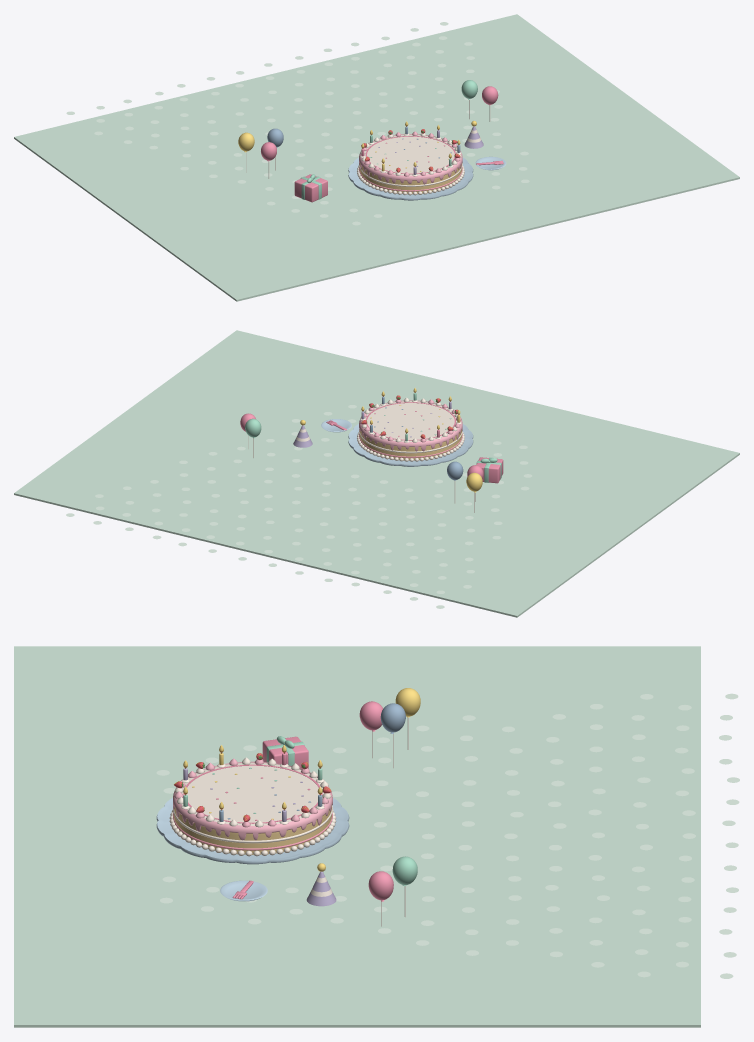
Rendered from cake_kit.glb.
3 renders of one model, top to bottom at view 1: azimuth 30°, elevation 25°; view 2: azimuth 150°, elevation 25°; view 3: azimuth 270°, elevation 25°, orthographic. The views are drawn at different scales.
Visible parts, largest first — view 1: TABLE_Cloth, CAKE_Body, TABLE_Stand, CAKE_Collar, TABLE_Present; view 2: TABLE_Cloth, CAKE_Body, TABLE_Stand, CAKE_Collar, TABLE_Present; view 3: TABLE_Cloth, CAKE_Body, TABLE_Stand, CAKE_Collar, TABLE_Present, CAKE_Filling, CAKE_Border, TABLE_DessertPlate, TABLE_PartyHat.
Part boxes in pixels (bbox=[...]): TABLE_Cloth: bbox=[14, 14, 739, 301]; CAKE_Body: bbox=[359, 134, 462, 194]; TABLE_Stand: bbox=[348, 157, 473, 200]; CAKE_Collar: bbox=[359, 134, 462, 184]; TABLE_Present: bbox=[294, 174, 327, 202]; TABLE_Cloth: bbox=[14, 330, 739, 617]; CAKE_Body: bbox=[359, 401, 462, 460]; TABLE_Stand: bbox=[348, 424, 473, 466]; CAKE_Collar: bbox=[359, 400, 462, 451]; TABLE_Present: bbox=[476, 457, 503, 483]; TABLE_Cloth: bbox=[14, 646, 739, 1027]; CAKE_Body: bbox=[173, 762, 331, 854]; TABLE_Stand: bbox=[156, 798, 349, 864]; CAKE_Collar: bbox=[173, 761, 332, 840]; TABLE_Present: bbox=[262, 736, 308, 768]; CAKE_Filling: bbox=[173, 805, 332, 850]; CAKE_Border: bbox=[169, 810, 336, 856]; TABLE_DessertPlate: bbox=[220, 880, 267, 901]; TABLE_PartyHat: bbox=[306, 863, 336, 906].
Bounding box in the file's own units: 60 × 4.9 × 48.62.
1 material, 1 textured.
